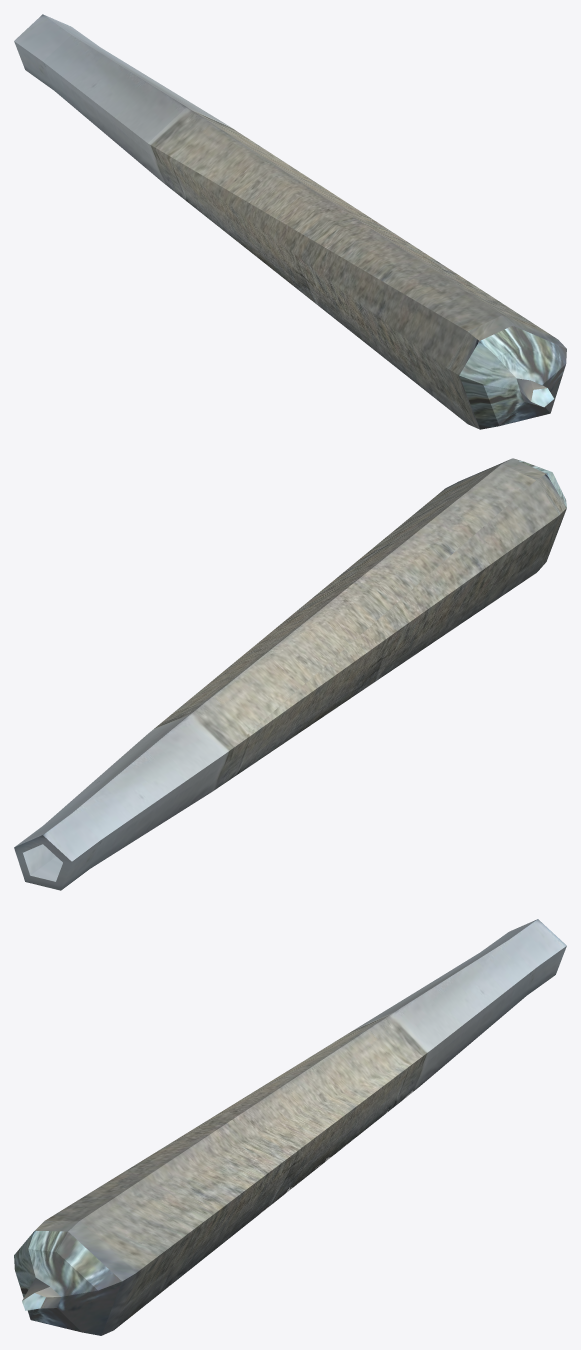
The model's file is sativa-preroll.glb.
3 views of the same model, one above another, from view 1: azimuth 30°, elevation 25°; view 2: azimuth 150°, elevation 25°; view 3: azimuth 330°, elevation 25° (orthographic).
Parts seen in each view (by area): view 1: Cylinder; view 2: Cylinder; view 3: Cylinder.
Part boxes in pixels (x1,y1,x2,y2): Cylinder: (14,14,566,429); Cylinder: (14,458,566,890); Cylinder: (14,919,566,1335).
Bounding box in the file's own units: 0.0161 × 0.0136 × 0.125.
1 material, 1 textured.
